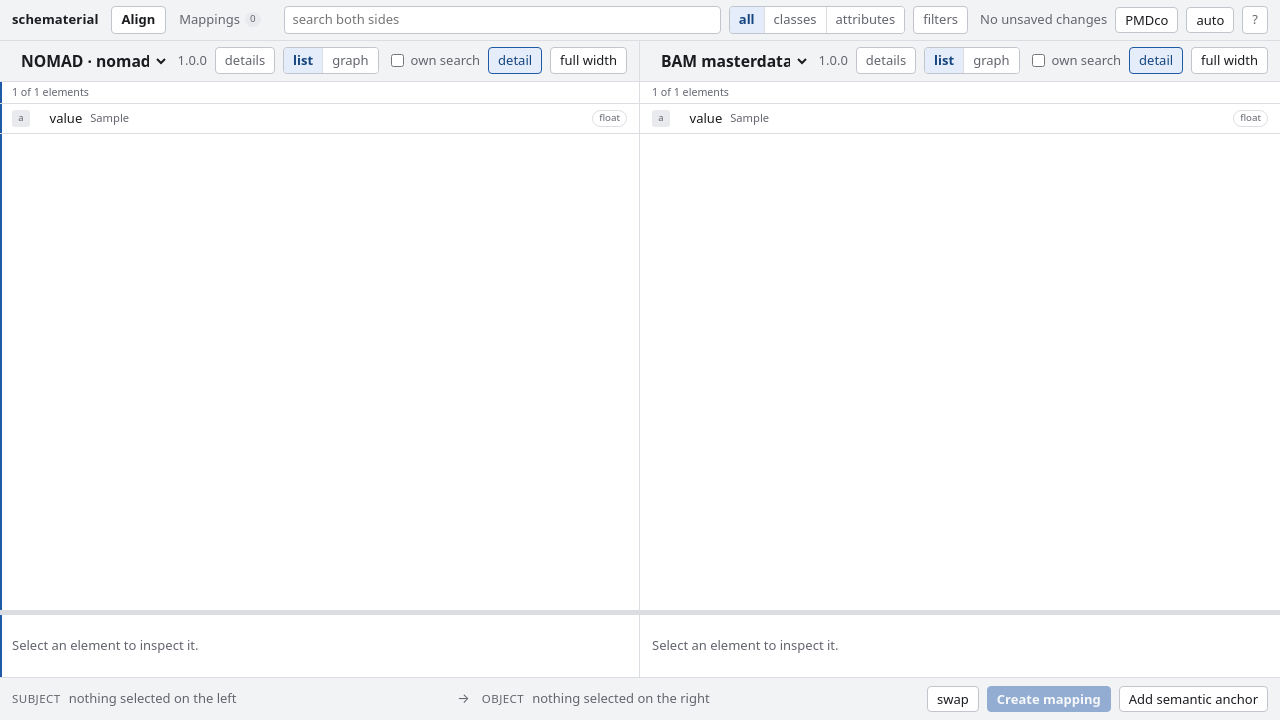
Scenario: browses the taxonomy and labels imported ancestors as context
The image size is (1280, 720).
Click the button "Add semantic anchor": (1193, 699) [1119,686,1268,712]
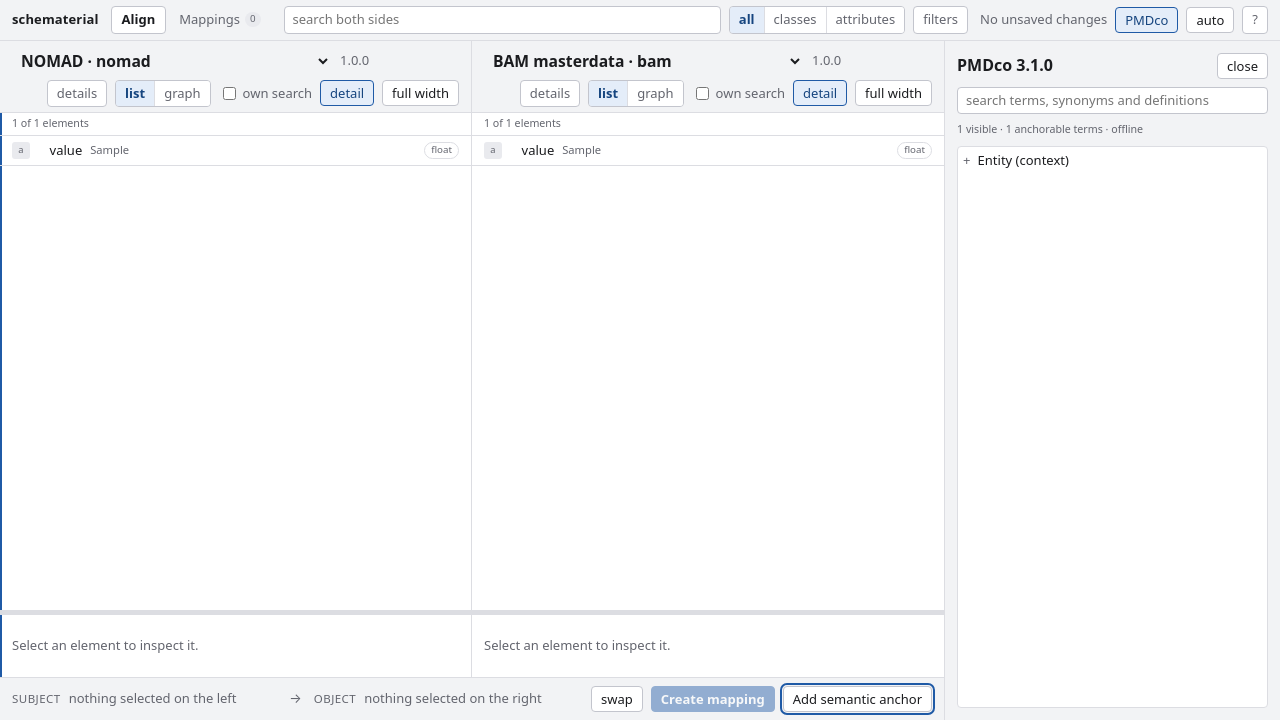
Click the button "Entity (context)": (995, 160) [978,147,1267,175]
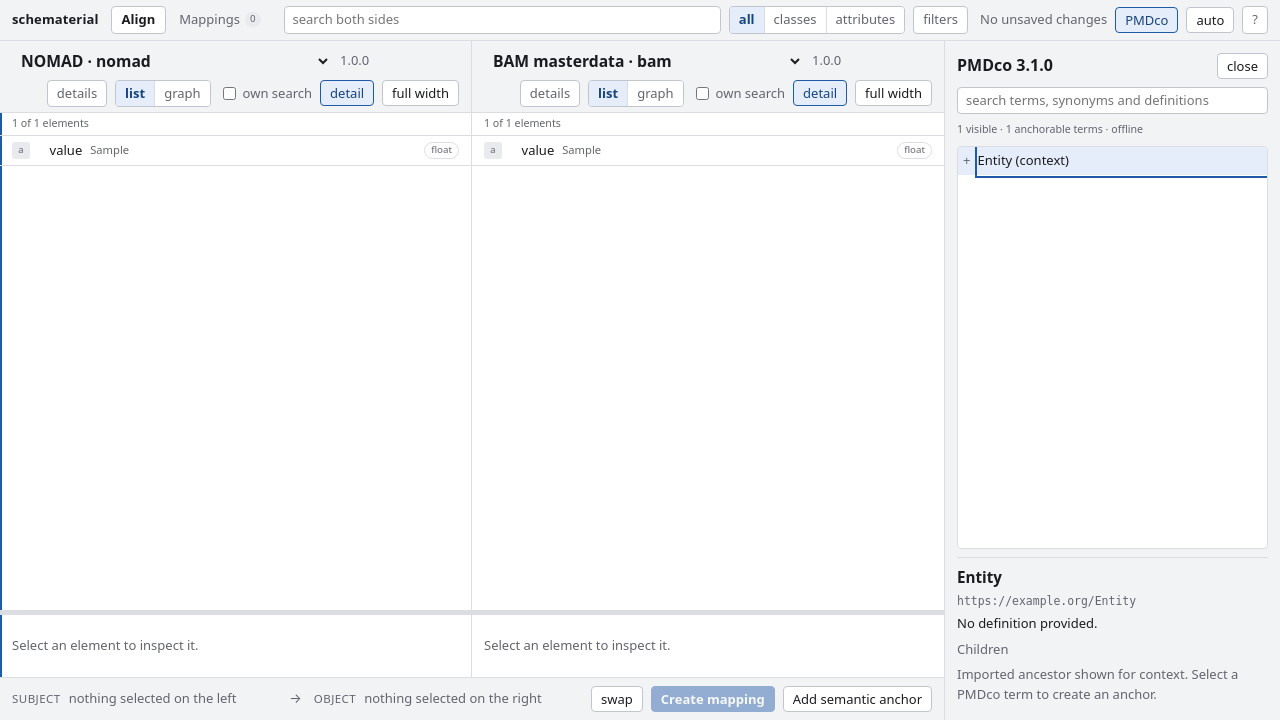
Expected: the button "Anchor left selection" is not shown
Click the button named "Expand Entity": (967, 161) [958,151,976,171]
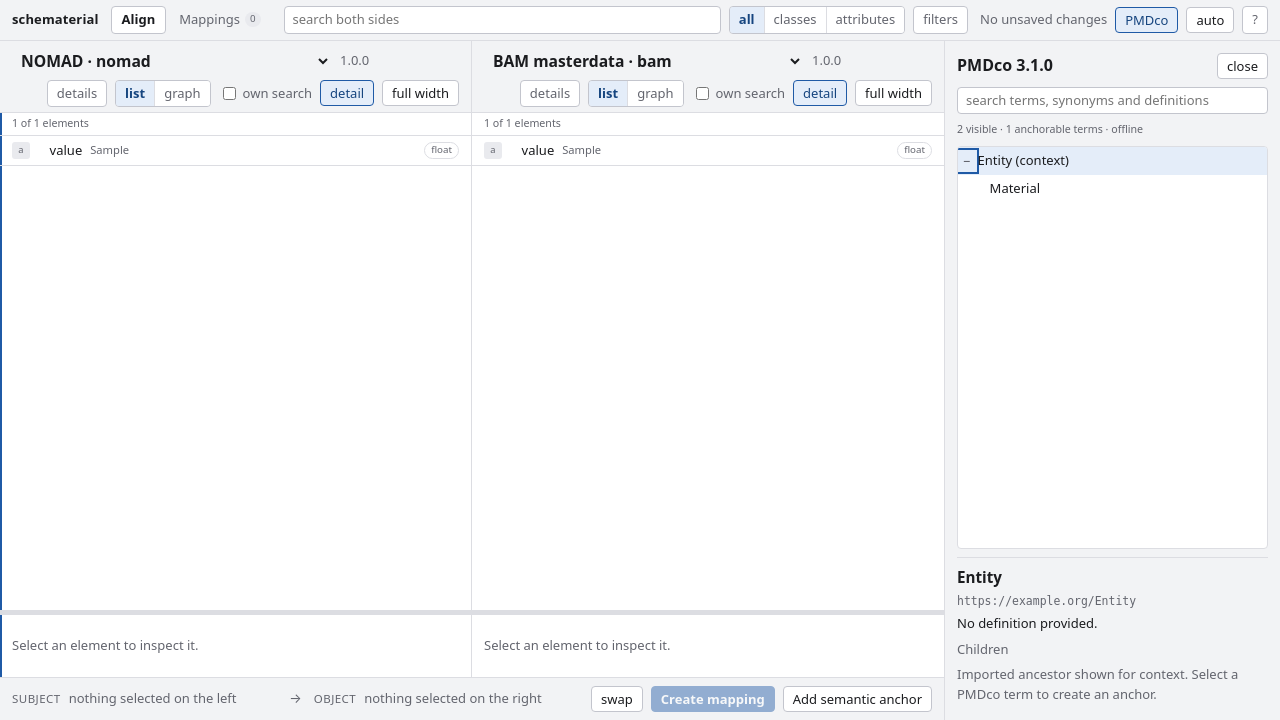
Click the button "Material": (1015, 188) [990,175,1267,203]
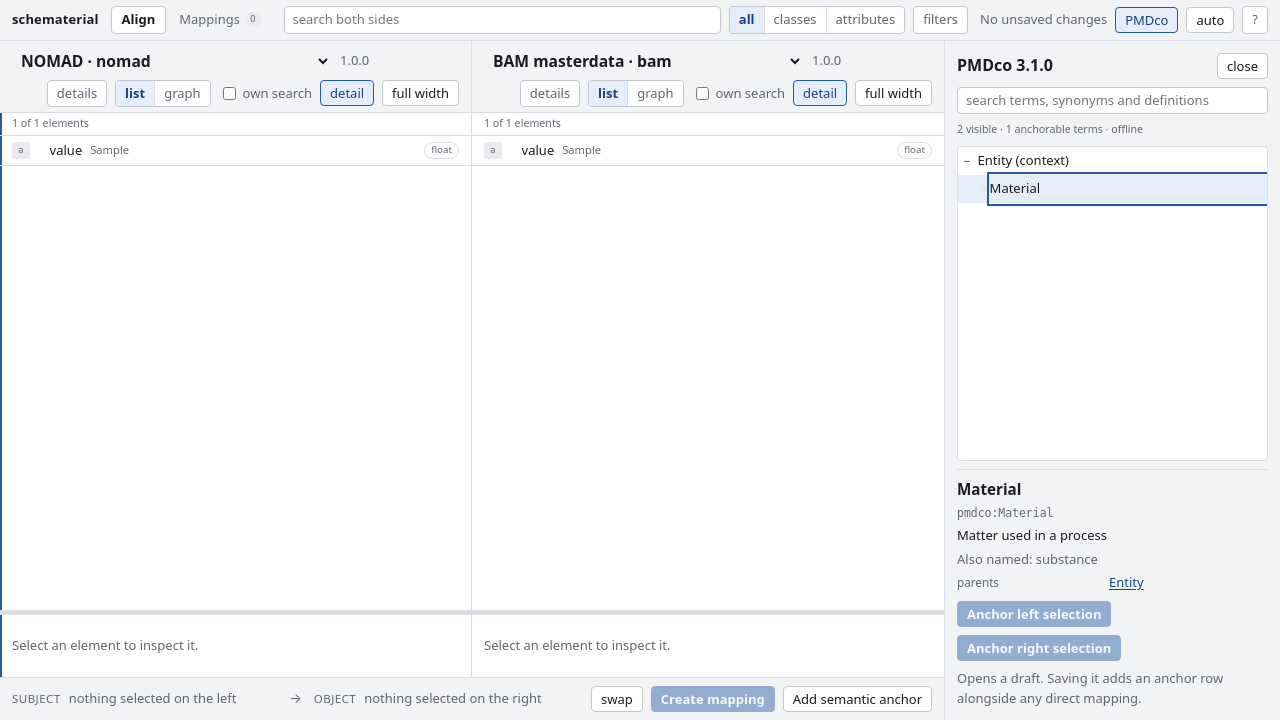
Now the button "Anchor left selection" is disabled, box [957,601,1112,627]
Click the button "Entity": (1126, 583) [1109,573,1144,593]
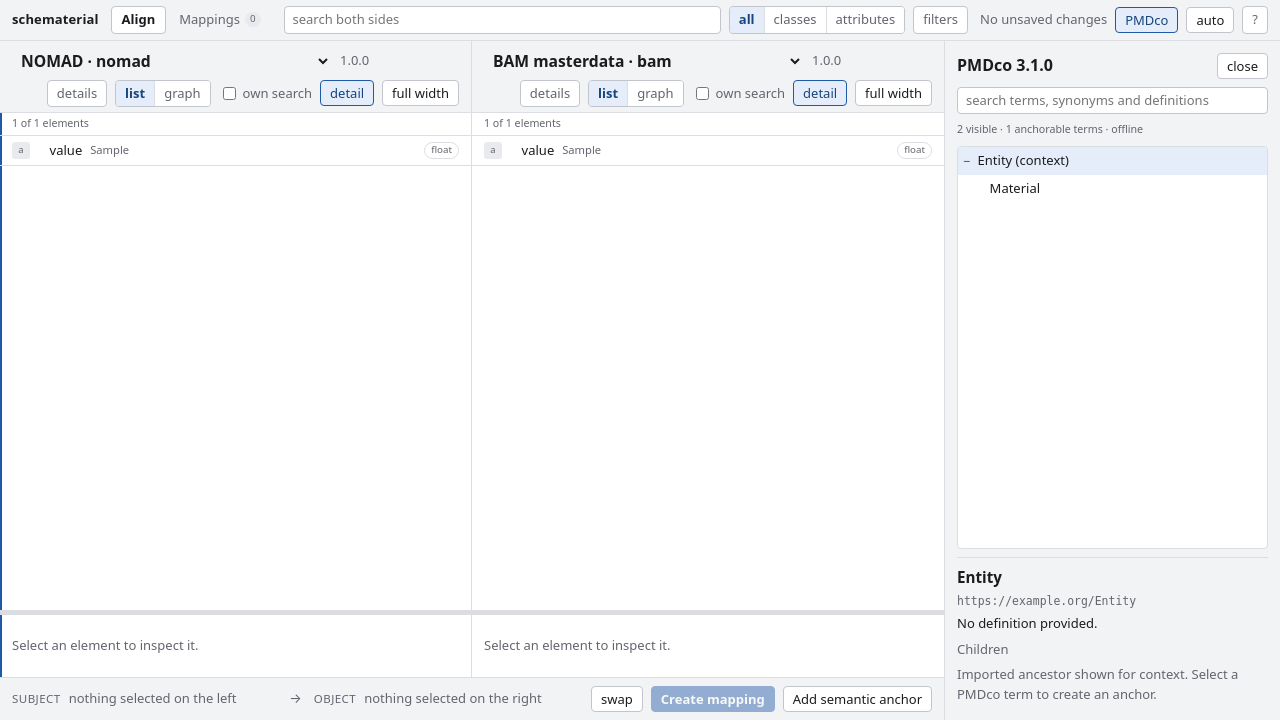
Now the text "Imported ancestor shown for context" is shown, box [957,665,1238,702]
In the search field named "Search PMDco": (1112, 100) [957,87,1268,114], type "no-such-term"
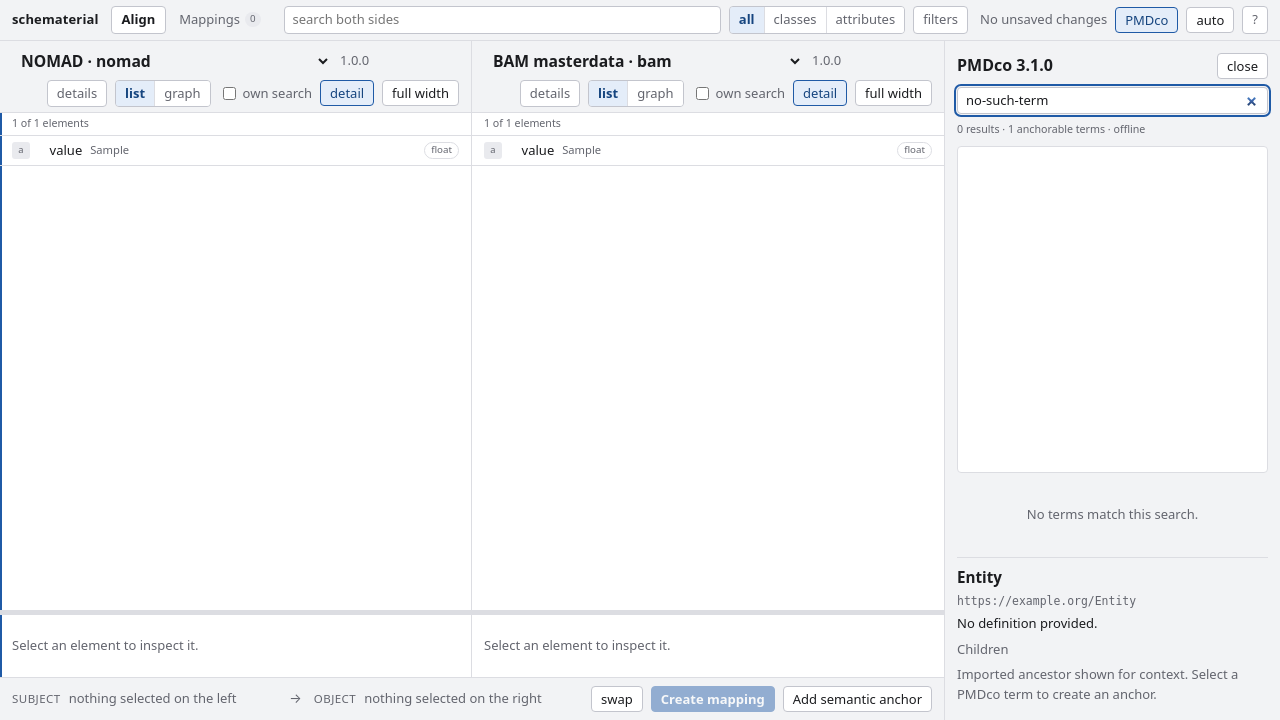
Now the text "No terms match this search." is shown, box [1027,505,1198,523]
